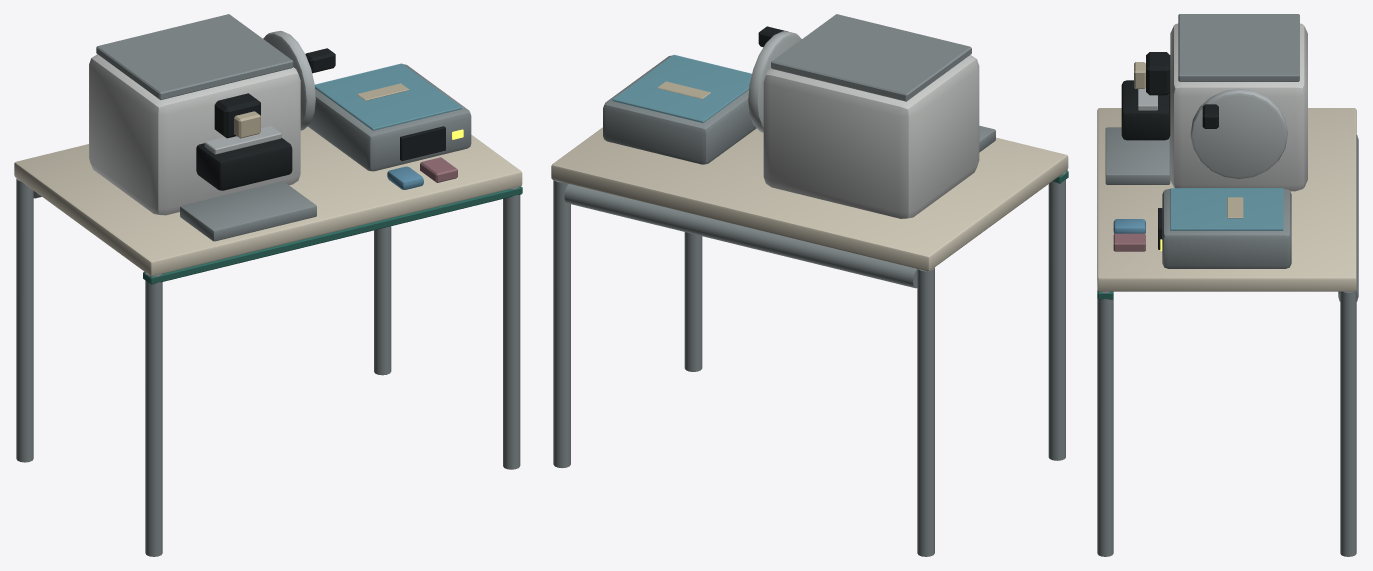
The model's file is microtome.glb.
3 views of the same model, side by side, from view 1: azimuth 30°, elevation 25°; view 2: azimuth 150°, elevation 25°; view 3: azimuth 270°, elevation 25° (orthographic). The views are drawn at different scales.
Parts seen in each view (by area): view 1: microtome; view 2: microtome; view 3: microtome.
Part boxes in pixels (bbox=[...]): microtome: bbox=[14, 14, 522, 556]; microtome: bbox=[551, 14, 1068, 556]; microtome: bbox=[1097, 14, 1358, 556].
Size of the model in its own units: 1 by 1.08 by 0.645.
